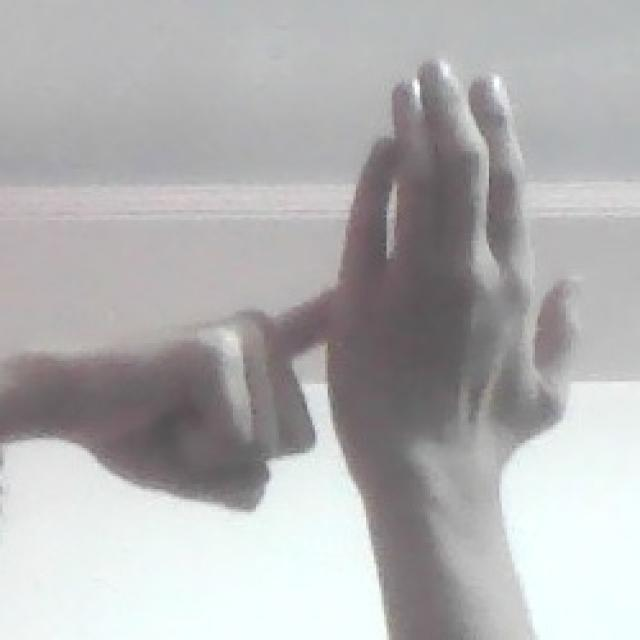Alphabet-R: (52, 51, 596, 556)
